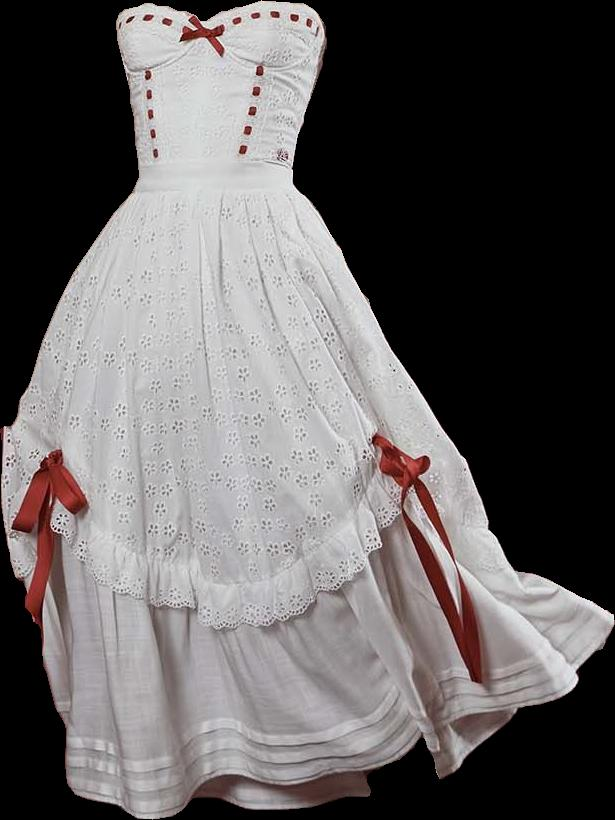Bodice: (116, 1, 326, 191)
Hemline: (63, 620, 614, 819), (15, 476, 518, 624)
Neckline: (125, 23, 329, 80), (114, 0, 330, 36), (133, 151, 293, 170)
Skirt: (2, 188, 614, 818)
Waistline: (133, 181, 297, 195)
